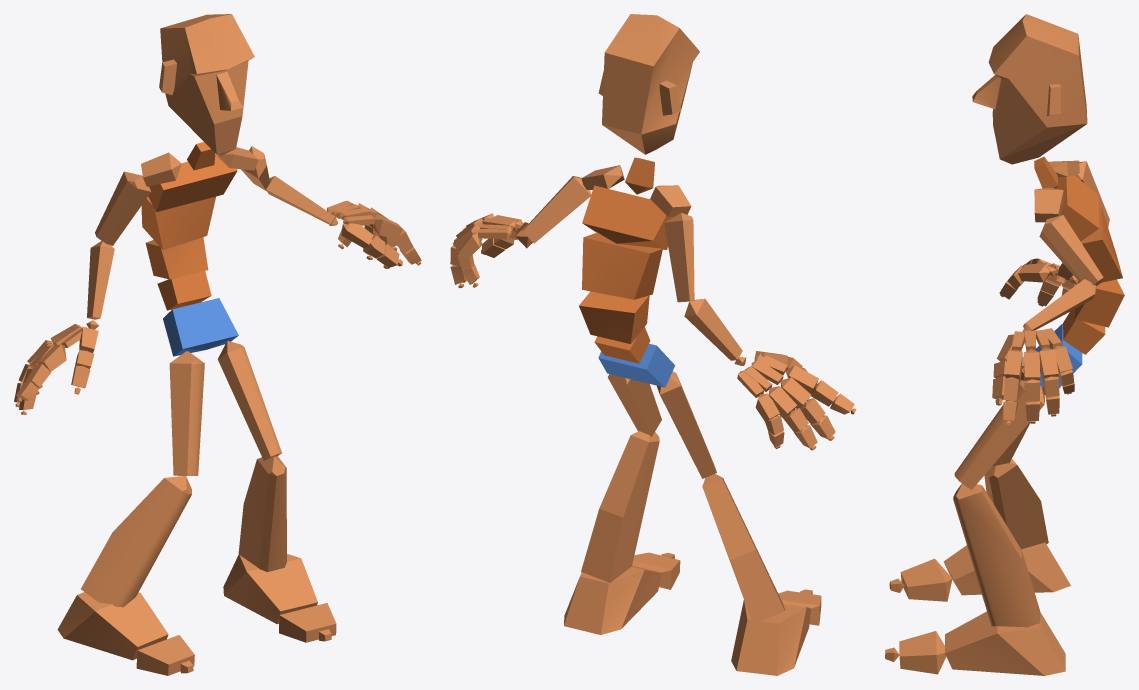
Rendered from prueba177.obj.
The picture shows the model from 3 angles, left to right: view 1: azimuth 30°, elevation 25°; view 2: azimuth 150°, elevation 25°; view 3: azimuth 270°, elevation 25°; orthographic projection. The views are drawn at different scales.
Visible parts, largest first — view 1: BOPED_Head, BOPED_R_leg, BOPED_R_foot, BOPED_L_leg, BOPED_R_foot01, BOPED_R_legup, BOPED_L_legup, Bone01, Bone05, Bone04, BOPED_R_arm_upper, Bone03 (+8 smaller); view 2: BOPED_Head, BOPED_L_leg, BOPED_R_leg, BOPED_R_foot01, BOPED_R_foot, Bone04, Bone05, Bone03, BOPED_R_legup, BOPED_R_arm_upper, BOPED_L_legup, Bone01 (+8 smaller); view 3: BOPED_Head, BOPED_L_leg, BOPED_R_foot01, BOPED_R_leg, BOPED_L_legup, BOPED_R_foot, BOPED_L_arm_upper, Bone05, BOPED_R_foot_toe01, BOPED_R_foot_toe04, Bone03, Bone04 (+12 smaller).
Part boxes in pixels (x1=…): BOPED_Head: x1=159, y1=14, x2=254, y2=155; BOPED_R_leg: x1=81, y1=476, x2=191, y2=607; BOPED_R_foot: x1=57, y1=592, x2=168, y2=660; BOPED_L_leg: x1=238, y1=456, x2=286, y2=572; BOPED_R_foot01: x1=223, y1=554, x2=317, y2=623; BOPED_R_legup: x1=169, y1=351, x2=204, y2=475; BOPED_L_legup: x1=217, y1=341, x2=281, y2=460; Bone01: x1=163, y1=298, x2=238, y2=356; Bone05: x1=148, y1=154, x2=237, y2=212; Bone04: x1=141, y1=196, x2=216, y2=250; BOPED_R_arm_upper: x1=95, y1=171, x2=151, y2=245; Bone03: x1=145, y1=237, x2=208, y2=279; BOPED_Head: x1=598, y1=14, x2=699, y2=154; BOPED_L_leg: x1=581, y1=431, x2=659, y2=582; BOPED_R_leg: x1=702, y1=474, x2=785, y2=624; BOPED_R_foot01: x1=564, y1=565, x2=661, y2=634; BOPED_R_foot: x1=731, y1=600, x2=810, y2=675; Bone04: x1=582, y1=233, x2=662, y2=299; Bone05: x1=582, y1=185, x2=673, y2=249; Bone03: x1=579, y1=291, x2=649, y2=343; BOPED_R_legup: x1=657, y1=371, x2=716, y2=478; BOPED_R_arm_upper: x1=664, y1=212, x2=694, y2=302; BOPED_L_legup: x1=607, y1=374, x2=661, y2=436; Bone01: x1=598, y1=343, x2=674, y2=387; BOPED_Head: x1=972, y1=14, x2=1087, y2=164; BOPED_L_leg: x1=953, y1=483, x2=1040, y2=627; BOPED_R_foot01: x1=945, y1=611, x2=1065, y2=675; BOPED_R_leg: x1=984, y1=459, x2=1048, y2=549; BOPED_L_legup: x1=954, y1=380, x2=1044, y2=489; BOPED_R_foot: x1=943, y1=542, x2=1070, y2=595; BOPED_L_arm_upper: x1=1039, y1=215, x2=1103, y2=286; Bone05: x1=1056, y1=175, x2=1099, y2=241; BOPED_R_foot_toe01: x1=900, y1=558, x2=952, y2=601; BOPED_R_foot_toe04: x1=899, y1=631, x2=946, y2=674; Bone03: x1=1075, y1=279, x2=1124, y2=327; Bone04: x1=1081, y1=207, x2=1122, y2=282.
Bounding box in the file's own units: 130 × 186 × 65.56.
